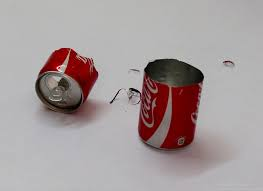can: (136, 56, 210, 157), (31, 39, 101, 117)
